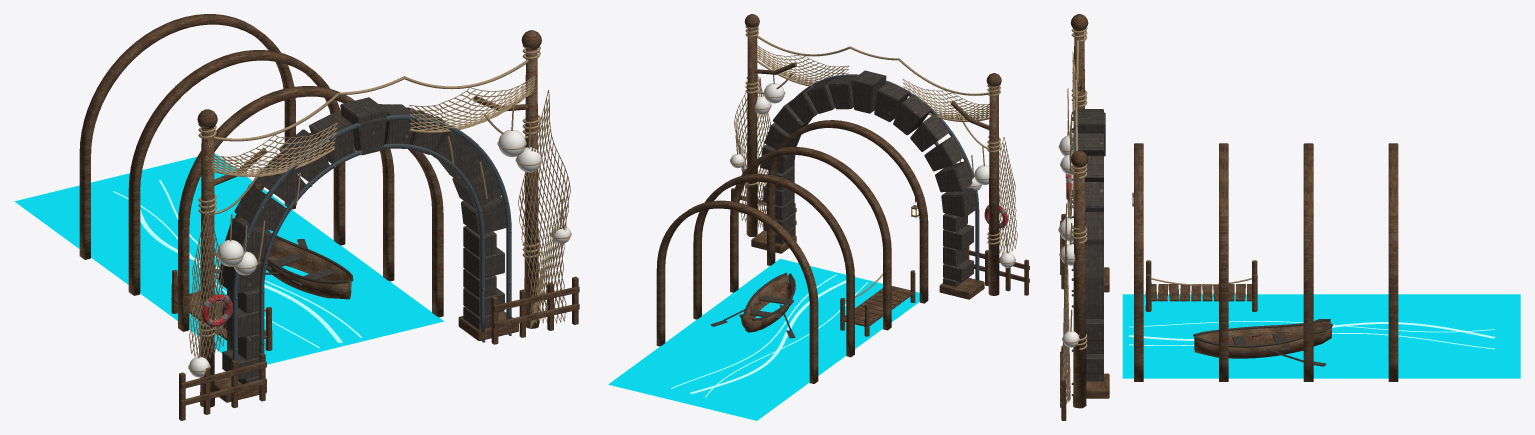
The model's file is fachada_04.glb.
3 views of the same model, side by side, from view 1: azimuth 30°, elevation 25°; view 2: azimuth 150°, elevation 25°; view 3: azimuth 270°, elevation 25° (orthographic). The views are drawn at different scales.
Visible parts, largest first — view 1: F04_agua, F04_costelas, F04_redes, F04_cerca, F04_barco, F04_cinta_out, F04_mastro-1, F04_boias, F04_cinta_in, F04_mastro1, F04_aduela_06, F04_cordas (+24 smaller); view 2: F04_agua, F04_costelas, F04_redes, F04_mastro-1, F04_barco, F04_mastro1, F04_cais, F04_boias, F04_correnteza, F04_cordas, F04_aduela_06, F04_cerca (+17 smaller); view 3: F04_agua, F04_costelas, F04_barco, F04_mastro1, F04_cais, F04_redes, F04_correnteza, F04_boias, F04_aduela_06, F04_aduela_00, F04_cerca, F04_aduela_03 (+6 smaller).
Part boxes in pixels (x1,y1,x2,y2): F04_agua: (14,153,444,364); F04_costelas: (79,14,443,350); F04_redes: (189,76,570,358); F04_cerca: (179,276,579,420); F04_barco: (214,228,353,299); F04_cinta_out: (232,114,511,360); F04_mastro-1: (200,127,214,407); F04_boias: (189,129,570,377); F04_cinta_in: (259,143,484,353); F04_mastro1: (524,48,538,328); F04_aduela_06: (340,97,387,155); F04_cordas: (214,59,528,214); F04_agua: (608,258,928,420); F04_costelas: (656,120,928,383); F04_redes: (734,45,1017,253); F04_mastro-1: (988,87,999,295); F04_barco: (710,272,795,338); F04_mastro1: (746,28,757,236); F04_cais: (840,270,915,336); F04_boias: (730,83,1015,267); F04_correnteza: (671,274,868,397); F04_cordas: (756,35,989,148); F04_aduela_06: (851,70,886,113); F04_cerca: (731,188,1029,295); F04_agua: (1122,294,1520,378); F04_costelas: (1134,143,1398,381); F04_barco: (1193,319,1332,366); F04_mastro1: (1073,166,1086,408); F04_cais: (1145,260,1257,311); F04_redes: (1062,51,1075,403); F04_correnteza: (1128,321,1495,349); F04_boias: (1059,135,1079,347); F04_aduela_06: (1073,112,1105,156); F04_aduela_00: (1085,272,1103,304); F04_cerca: (1060,214,1066,420); F04_aduela_03: (1085,182,1103,212).
Bounding box in the file's own units: 12.15 × 8.78 × 14.17.
Materials: 10 (4 with a texture image).
